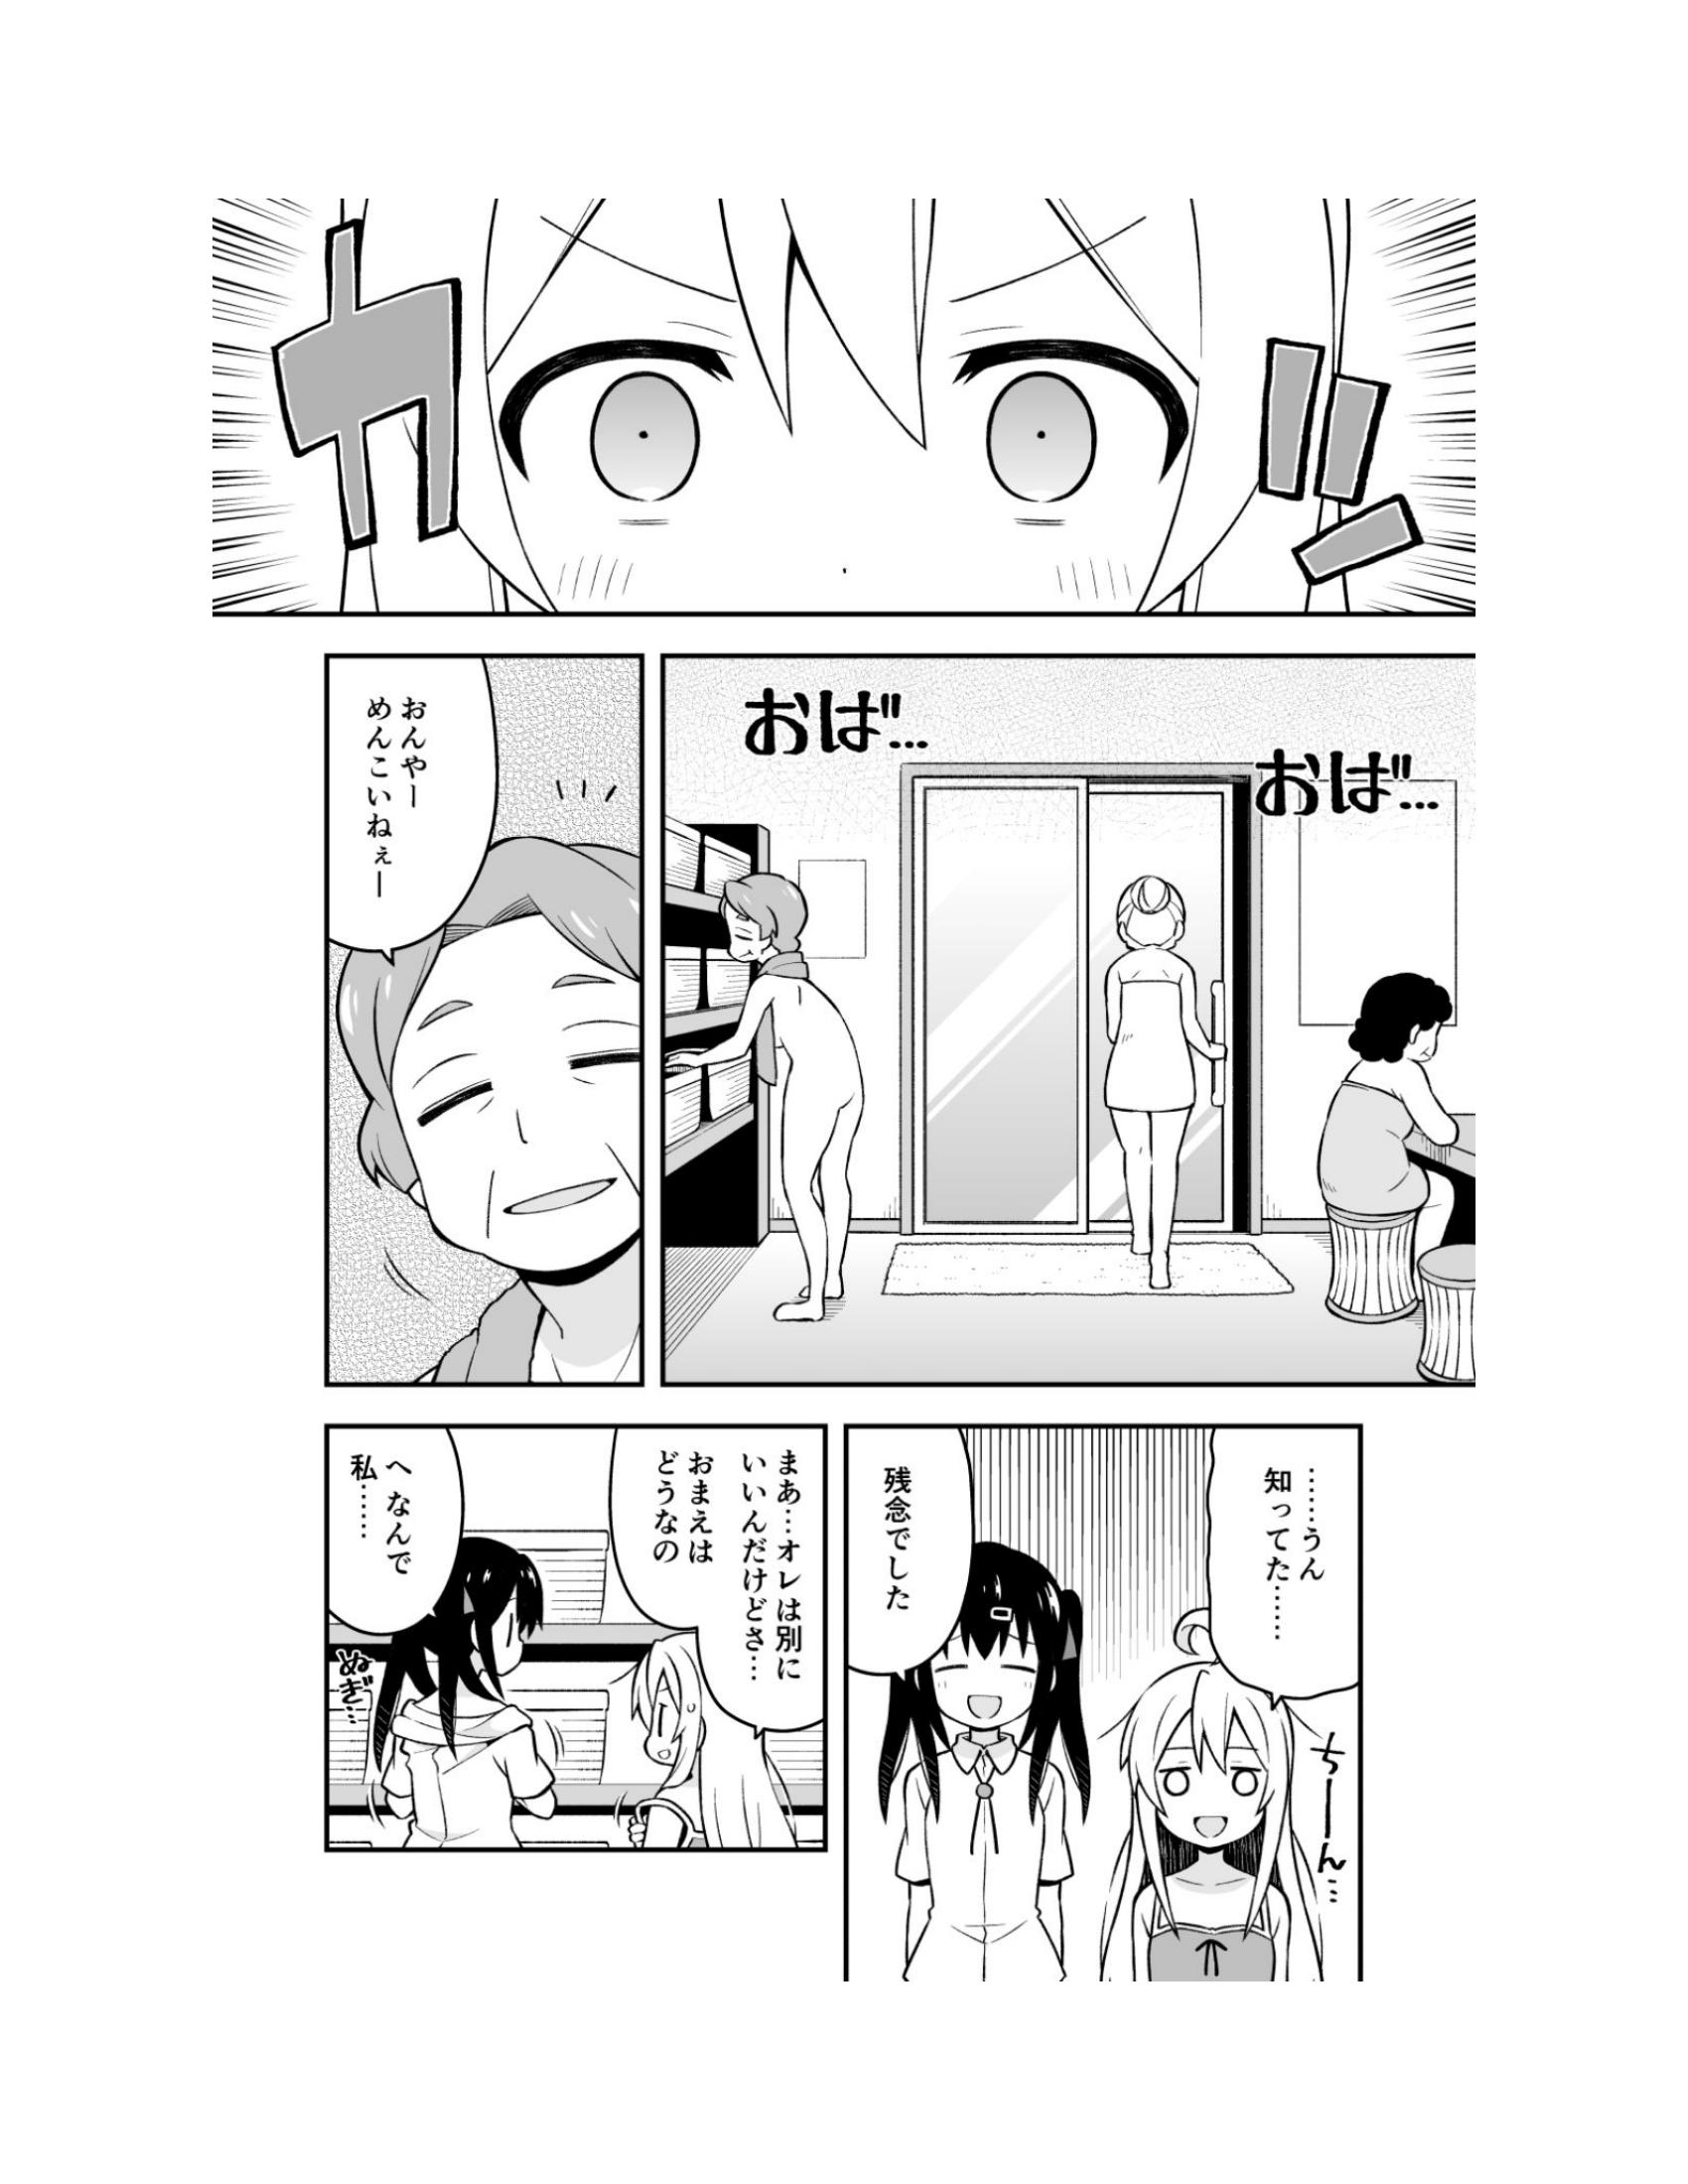a: (601, 1416, 837, 1757), (332, 652, 537, 970), (1213, 1400, 1399, 1705), (833, 1404, 998, 1696), (312, 1400, 486, 1652)
